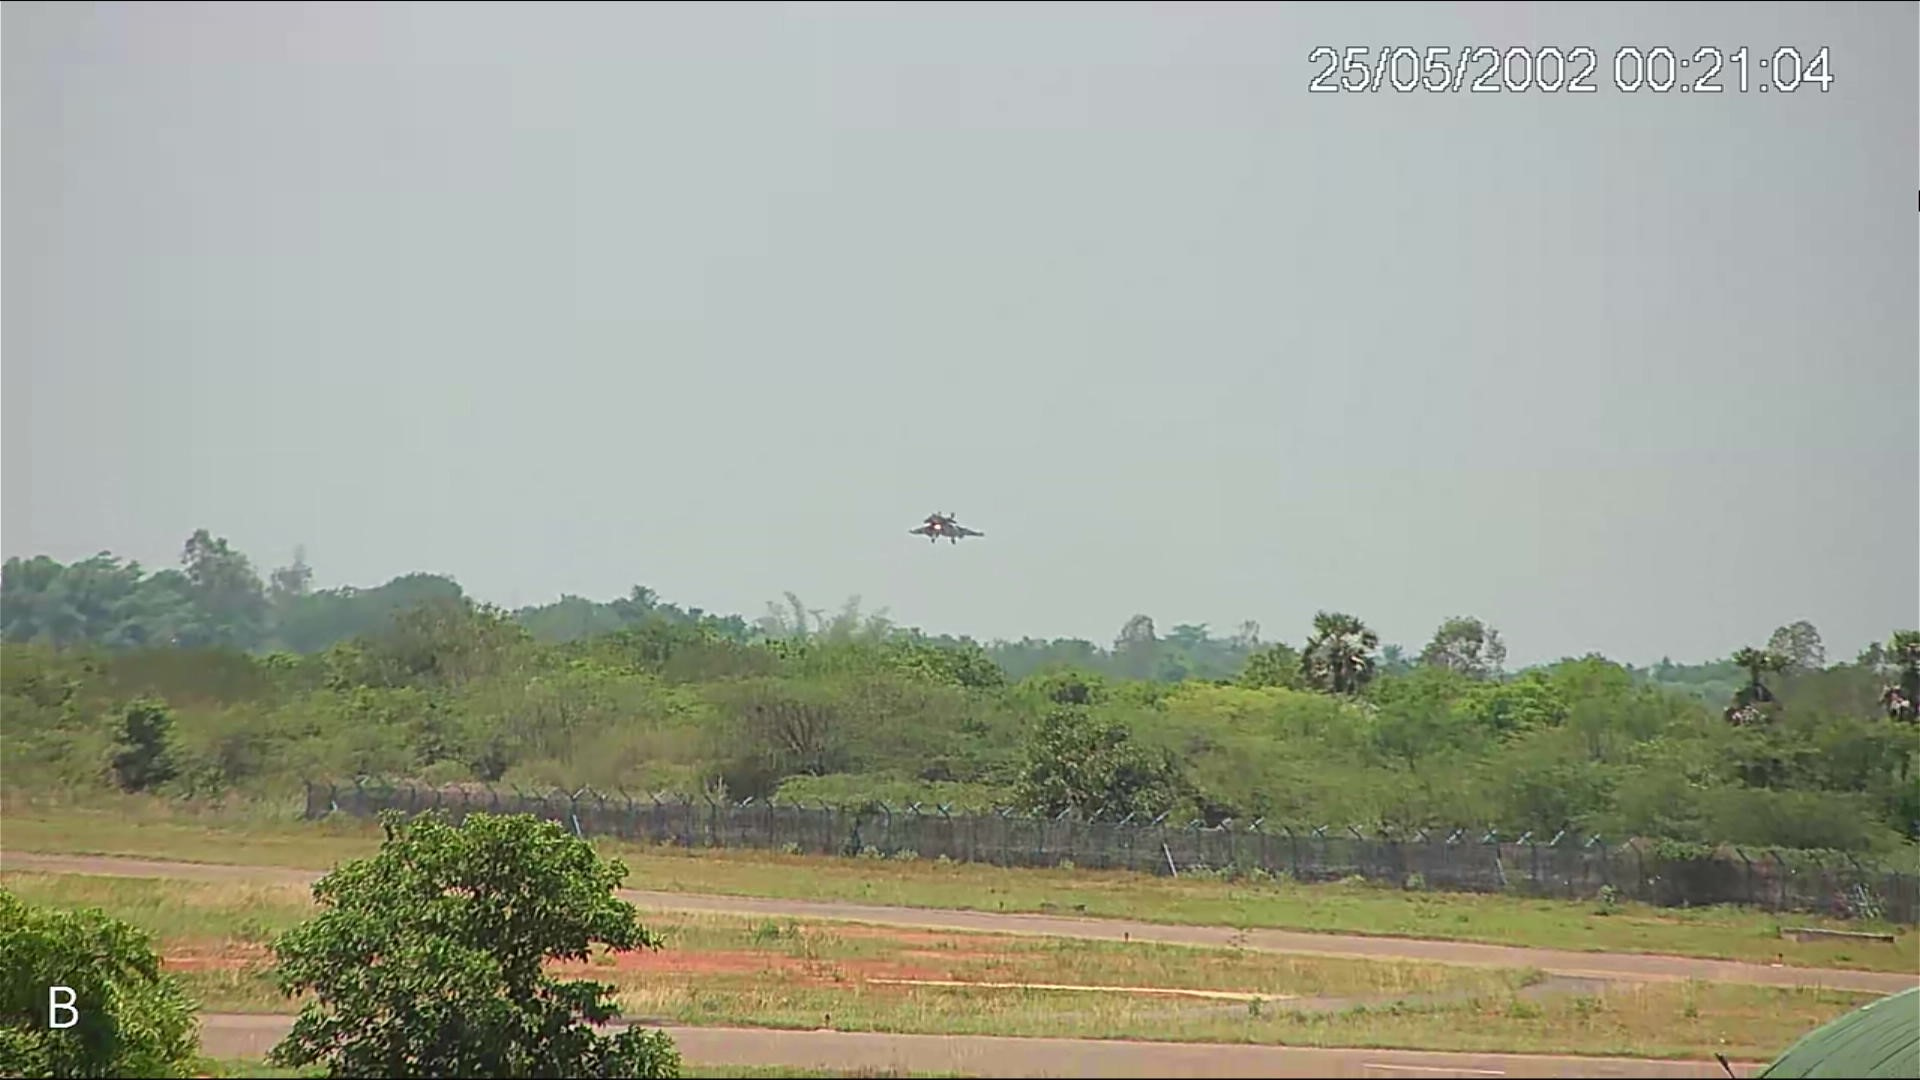SU_30: (905, 509, 986, 545)
